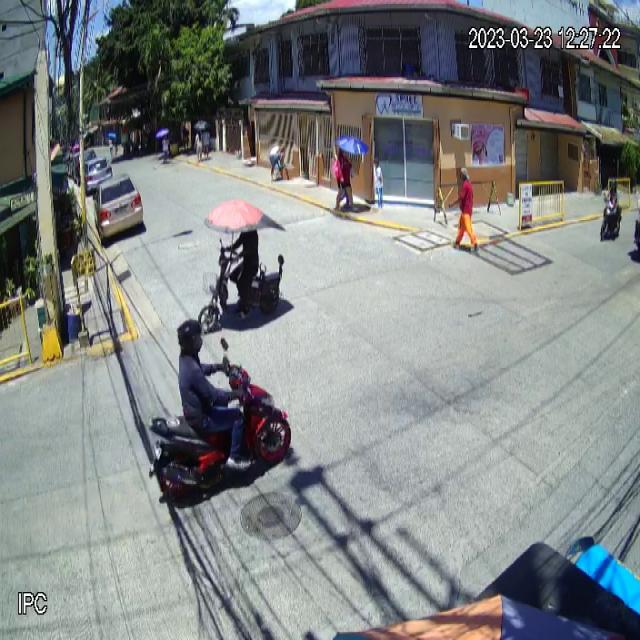Motorcycle: (146, 335, 292, 506)
